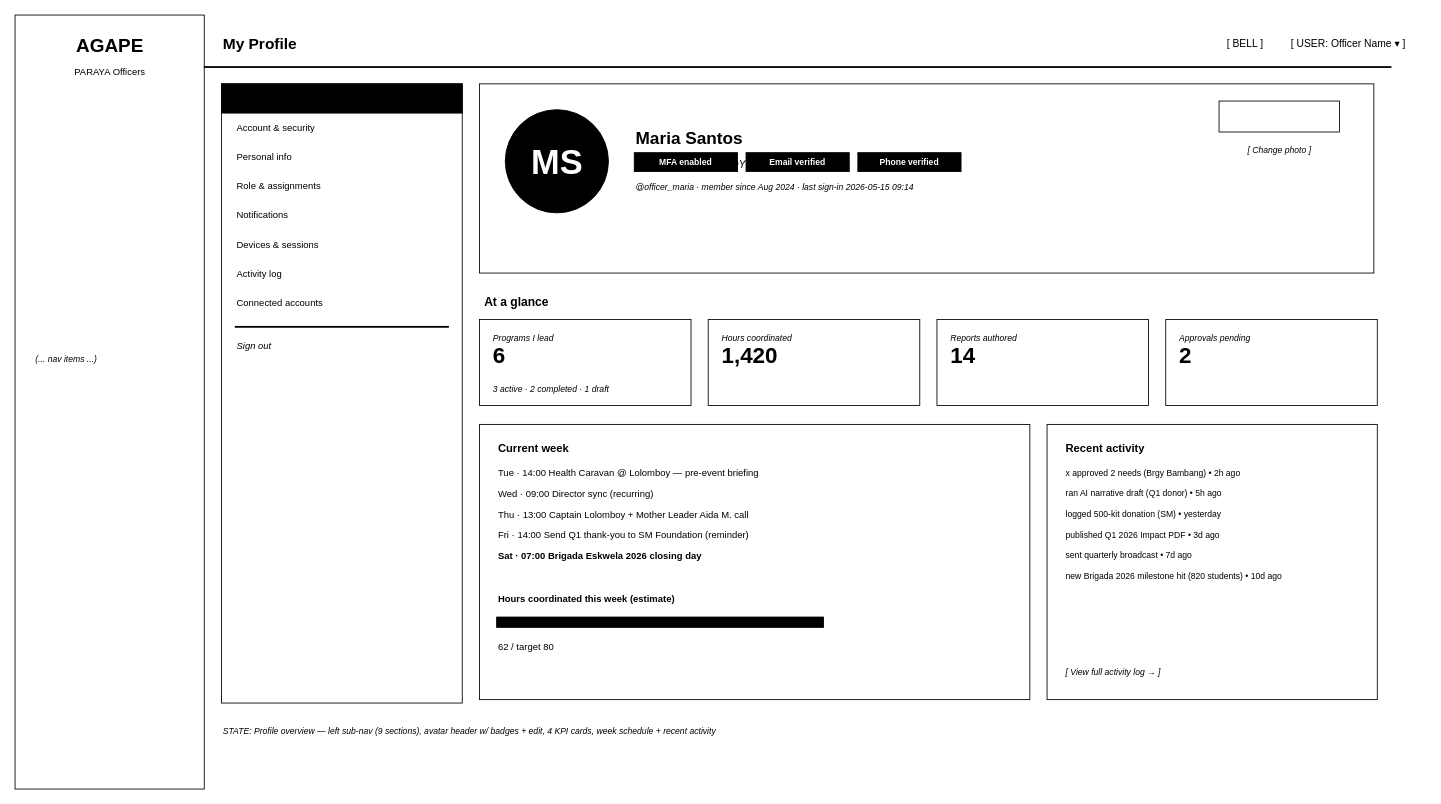
Some shapes in this 1441 by 804 pixel diagram are drawn without their labels. Here are the shapes that lost their labels. From the top down, the box of each, then its label:
(221, 83, 462, 113): Overview
(1218, 100, 1339, 132): [ Edit profile ]
